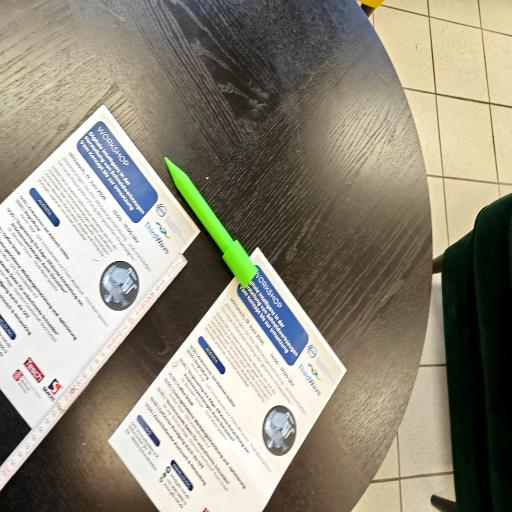Probe-Detection: (164, 157, 257, 286)
